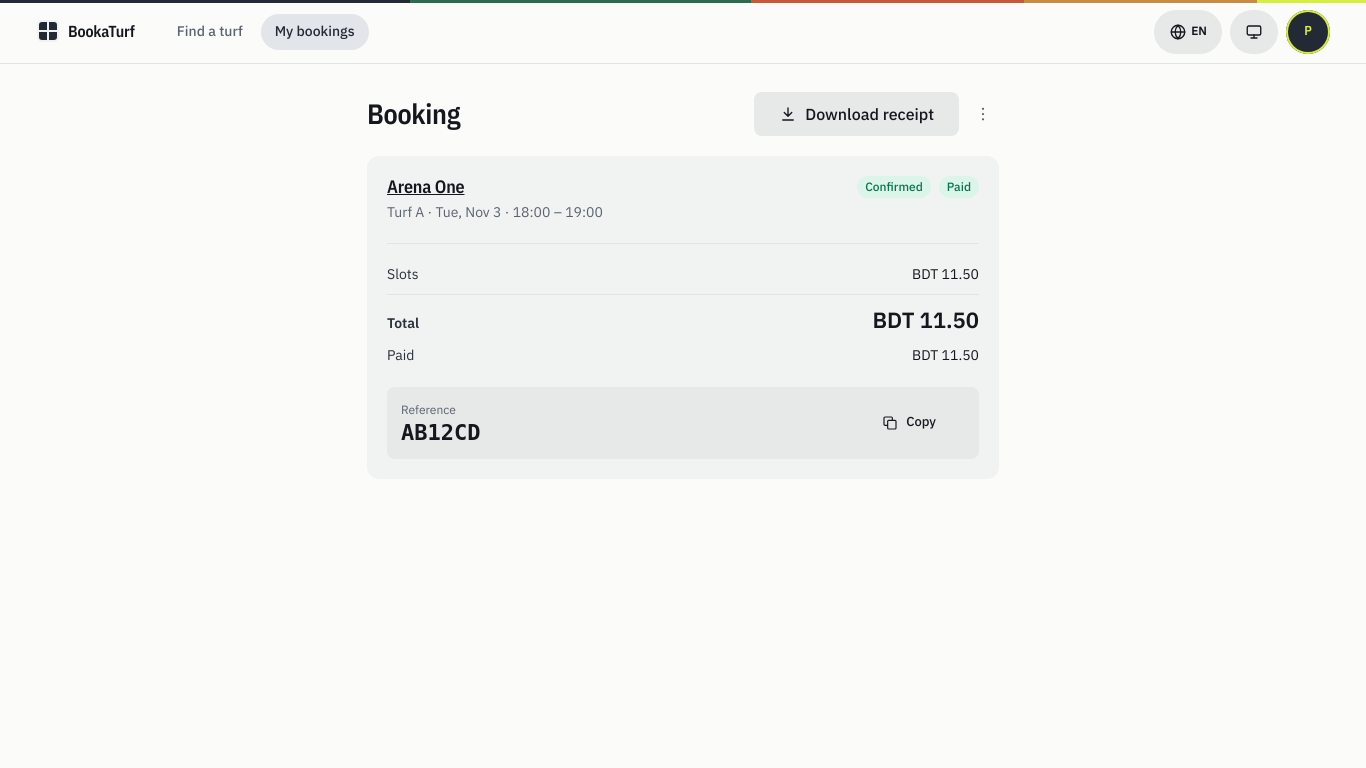
it: cancel dialog › too_late hides confirm
Click the button named "More actions" at [983, 114], box x1=967 y1=98 x2=999 y2=130
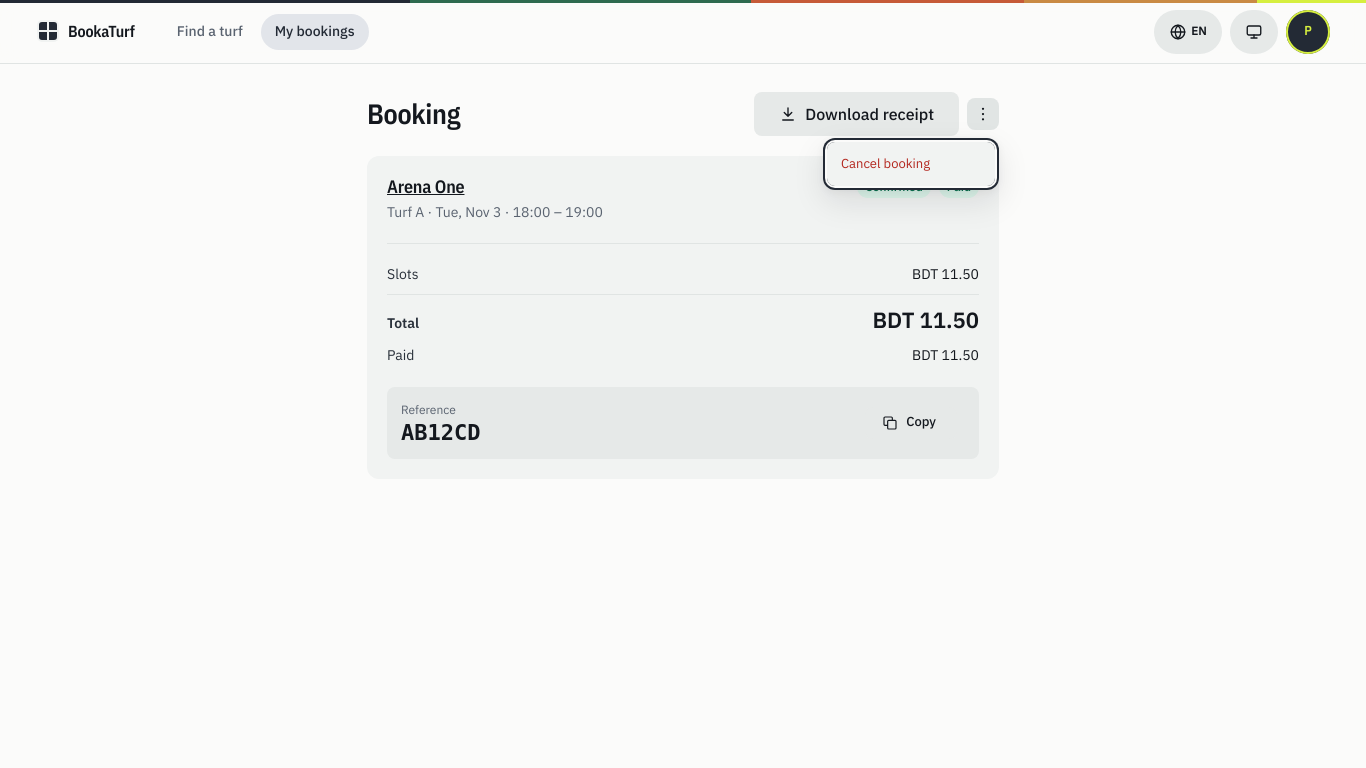
Click the menu item "Cancel booking" at [911, 164], box x1=827 y1=142 x2=995 y2=186
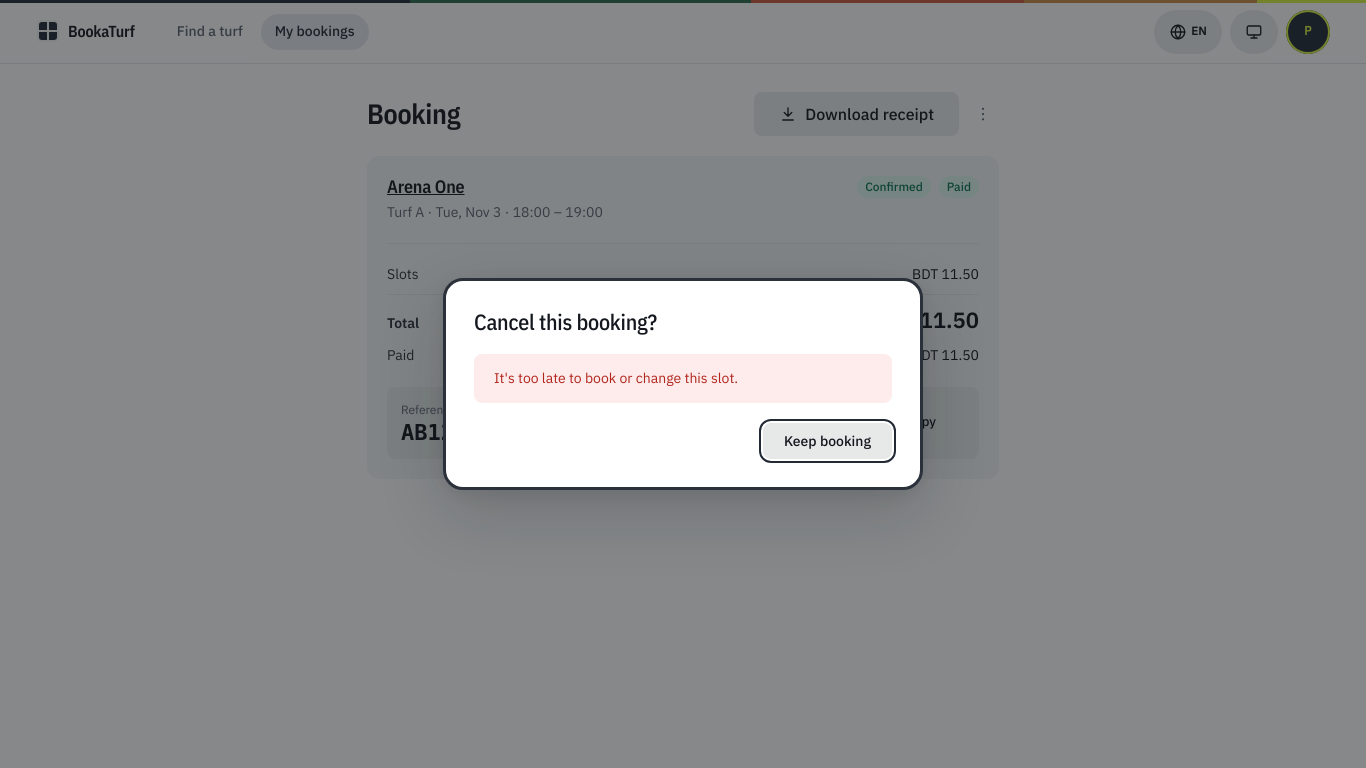
Expected: the text "It's too late to book or change this slot." is shown, x1=474 y1=354 x2=892 y2=404
Expected: the menu item "Cancel booking" is gone
Expected: the button "Keep booking" is shown, x1=763 y1=424 x2=892 y2=460
